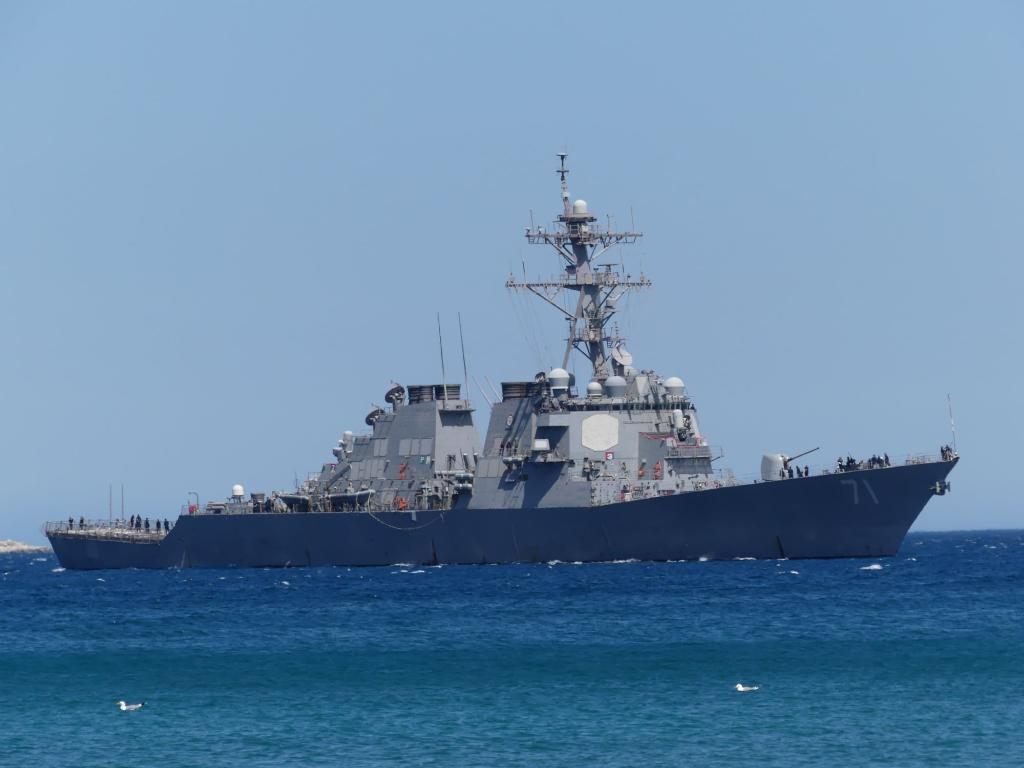Warship: (42, 150, 964, 568)
